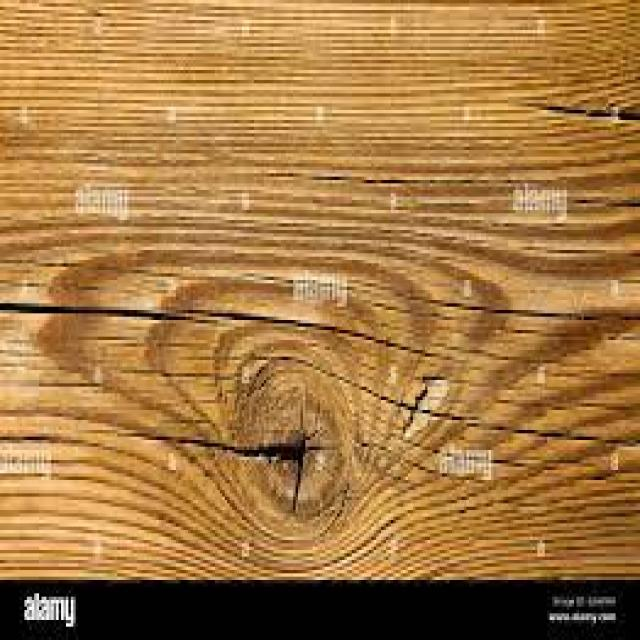have-wooden-eyes: (234, 358, 353, 514)
